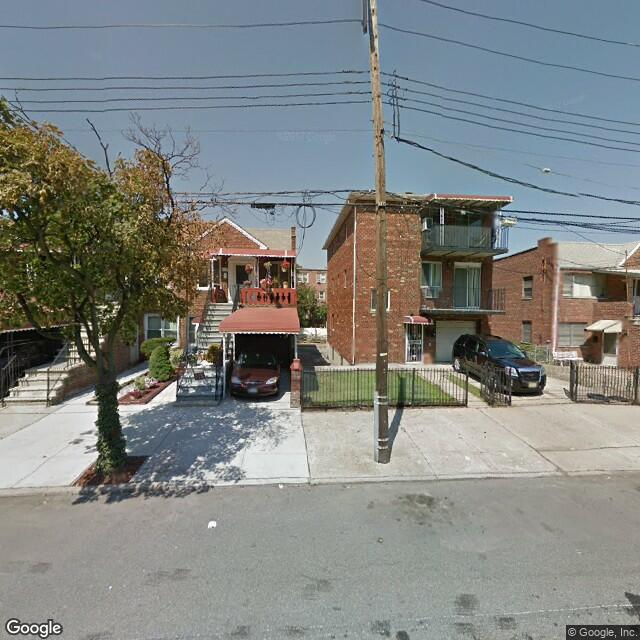litter: (205, 521, 219, 527), (276, 482, 284, 490), (107, 584, 114, 591)
